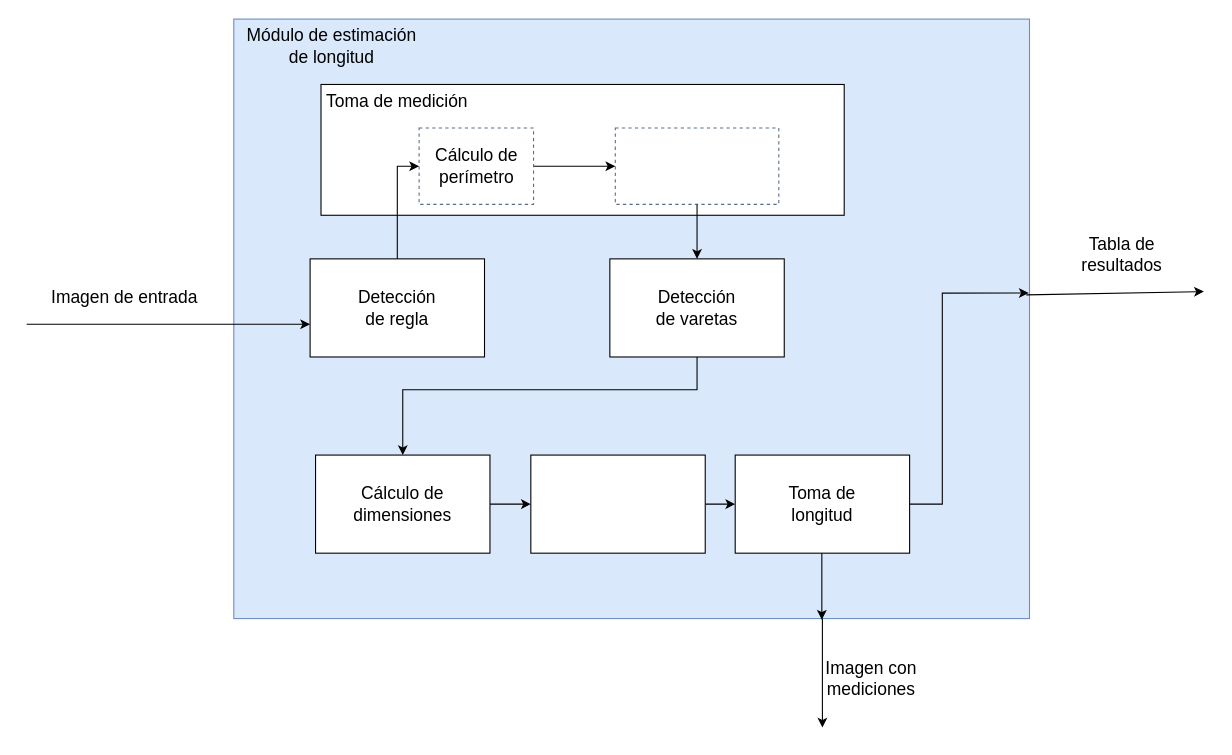
Image size: 1232x755. Some labels were removed from this diagram. Here are the shapes that lost their labels. From the top down, the box of each, then its label:
(614, 127, 779, 204): Conversión de píxeles a centímetros
(530, 454, 705, 553): Orientación de la imagen
